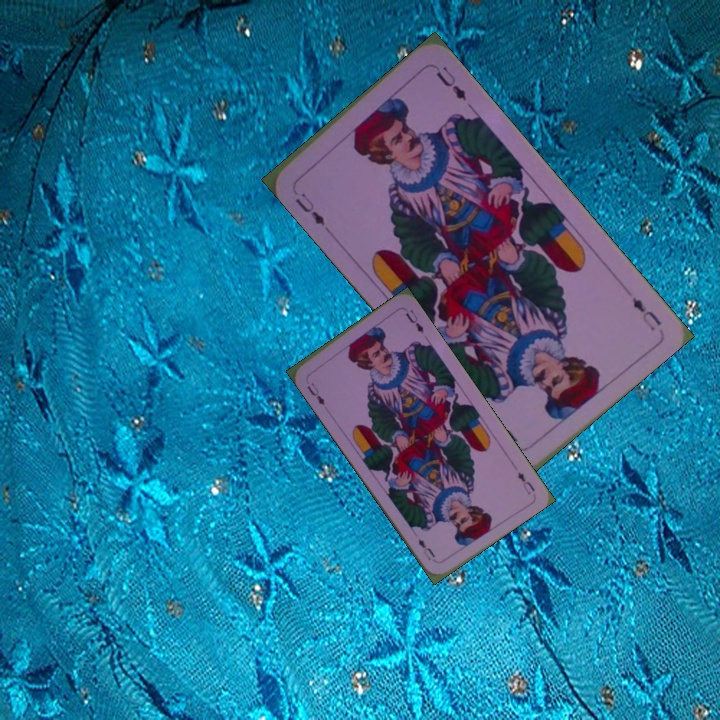EU: (627, 293, 664, 334), (291, 189, 328, 228), (303, 378, 328, 409), (514, 468, 537, 497)
